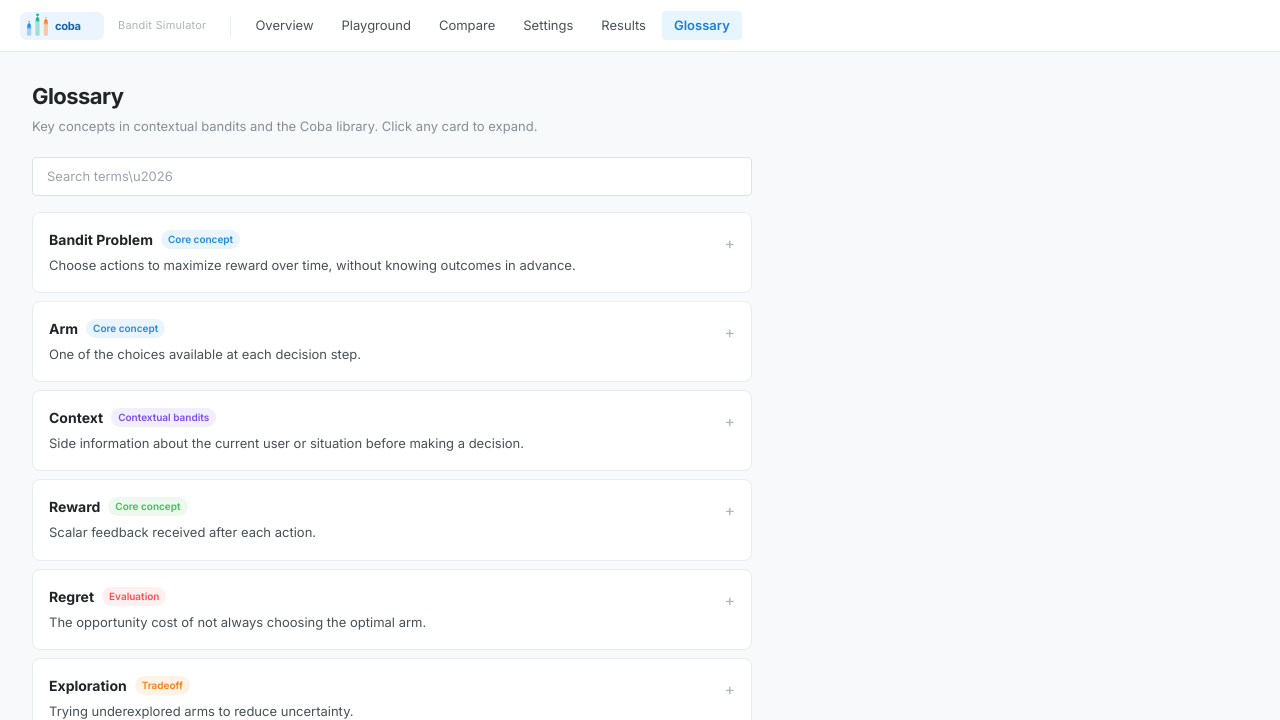
GlossaryPage › shows empty state for unmatched query
Type "zzznomatch" into the field with placeholder "Search terms\\u2026" at (392, 176), box [32,156,752,196]
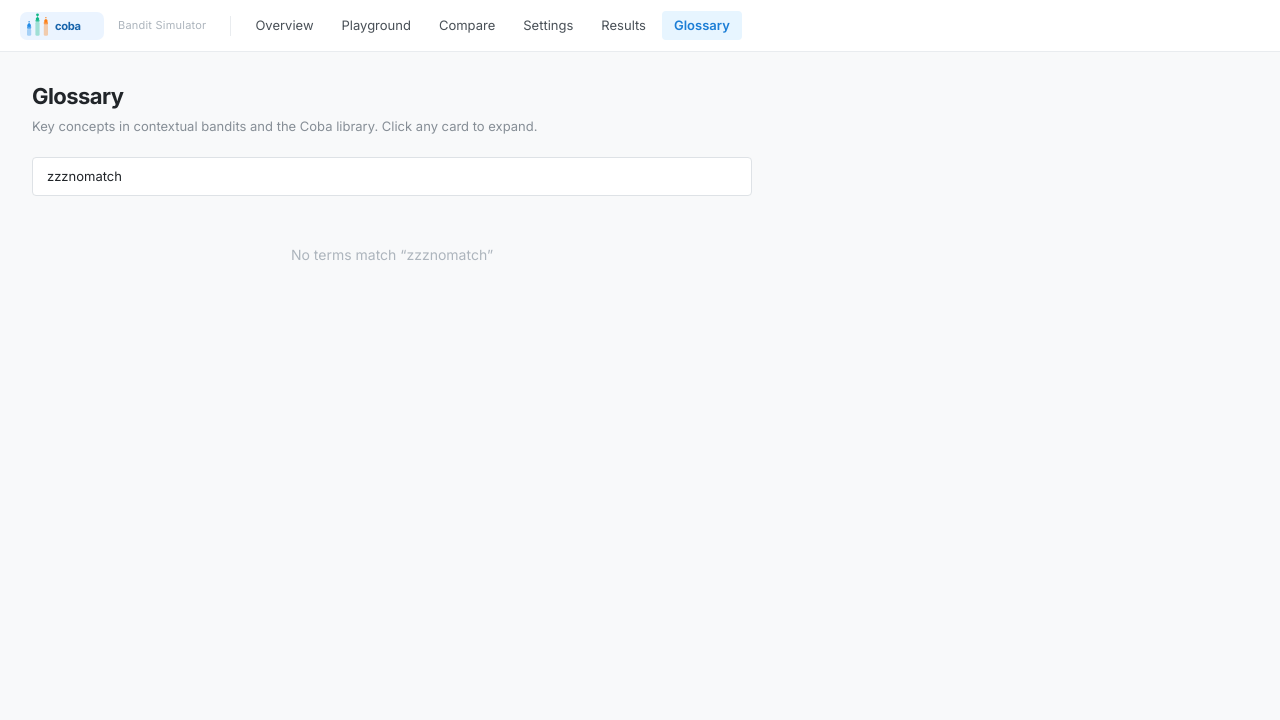
Expected: the text "No terms match “zzznomatch”" is shown, [291,246,493,263]
